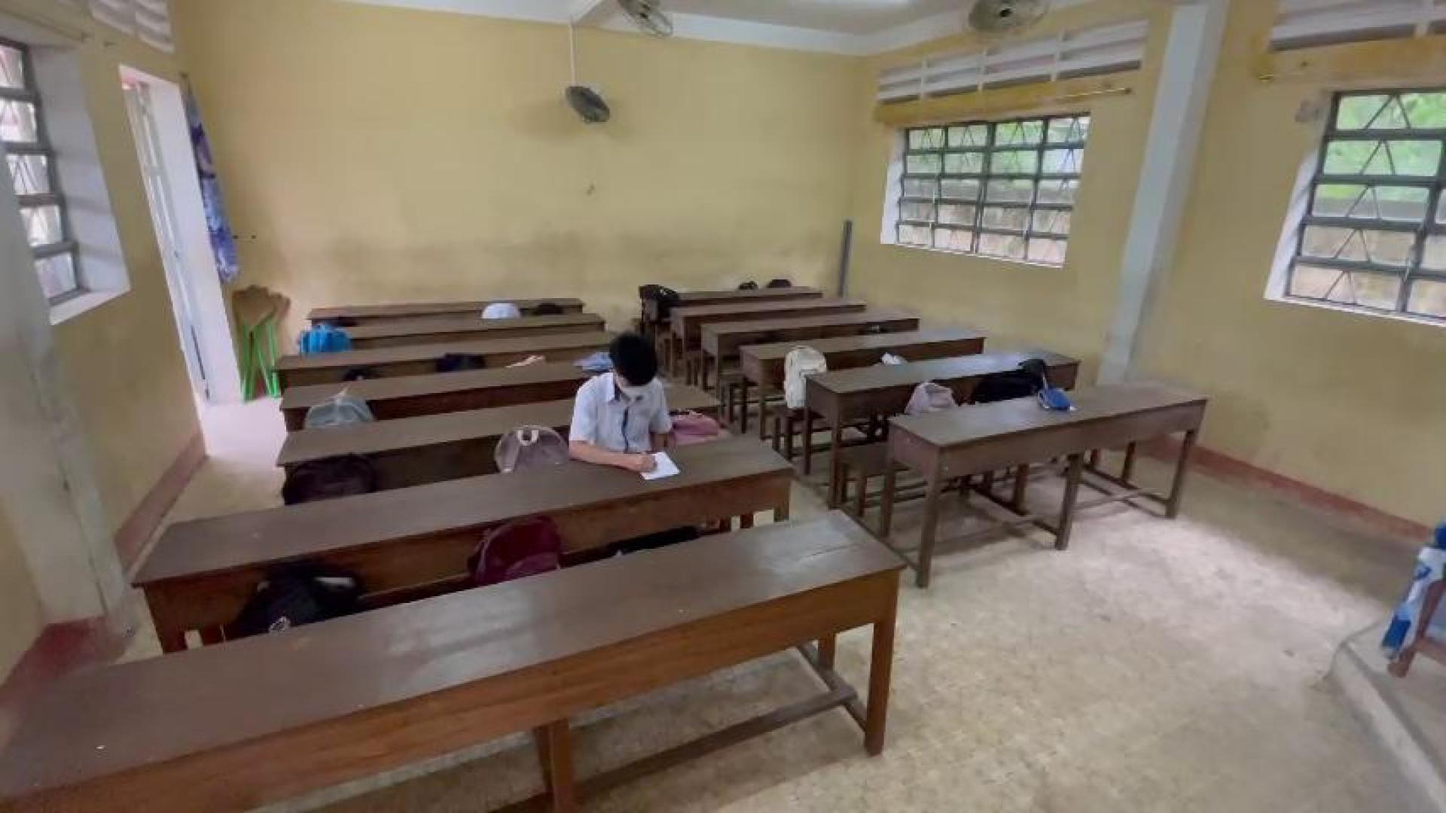Hand Under Table: (645, 384, 672, 451)
